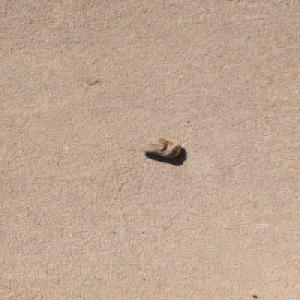Rock: (138, 137, 182, 158)
